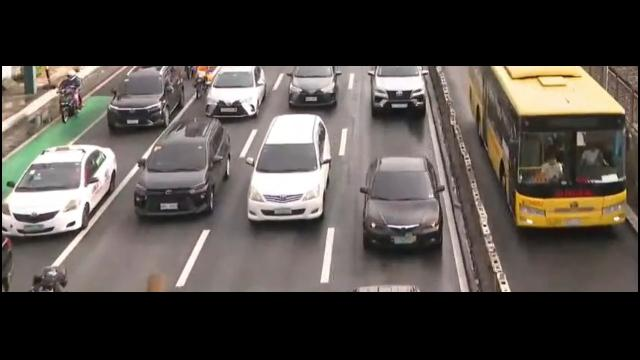bus: (469, 63, 636, 228)
car: (0, 134, 118, 241), (133, 107, 233, 224), (245, 103, 335, 226), (359, 154, 447, 250), (108, 67, 186, 129), (368, 61, 432, 118), (207, 66, 267, 117), (286, 68, 343, 113)
motorcycle: (57, 69, 84, 126), (194, 64, 212, 100)
